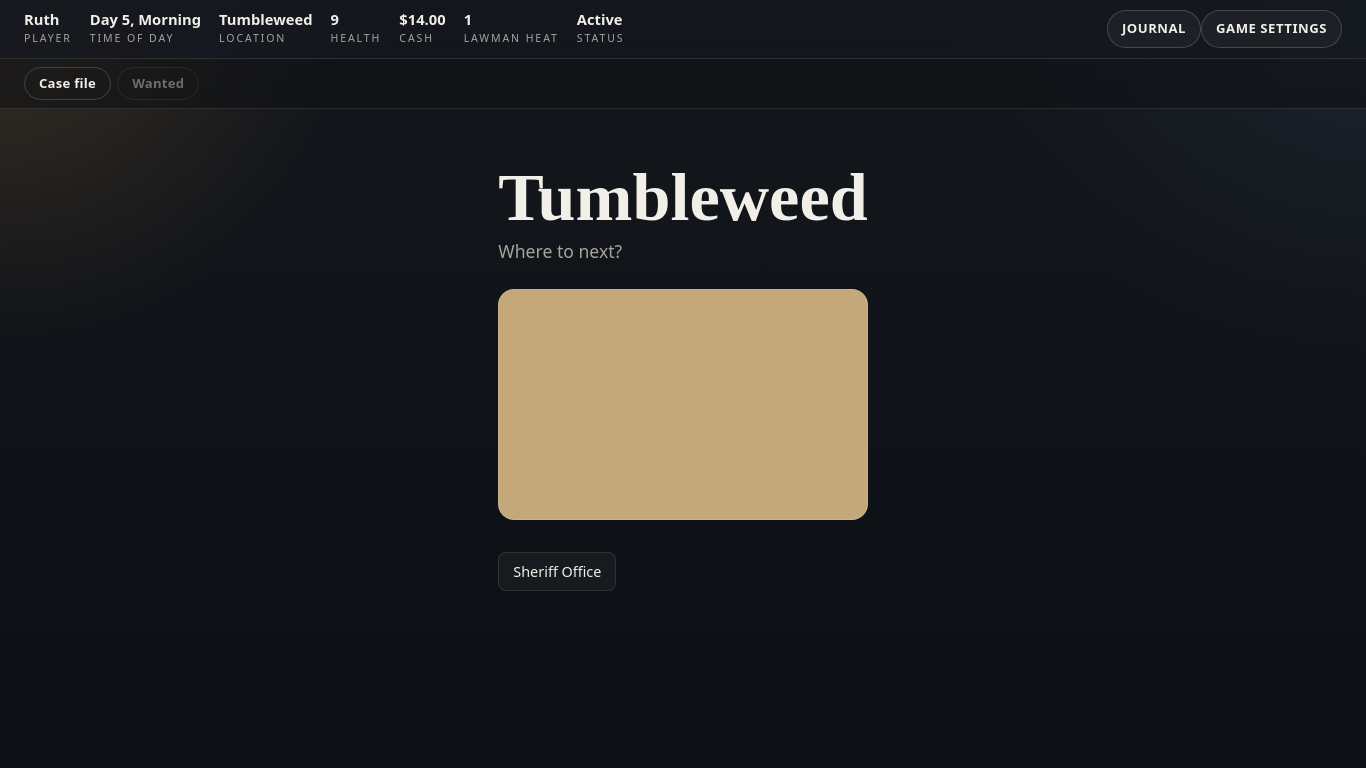
Scenario: Start Over confirmation › clears localStorage and storedGameId on Confirm, returning to the start flow
The width and height of the screenshot is (1366, 768).
Click the button "Game Settings" at (1272, 29), box [1201,10,1342,48]
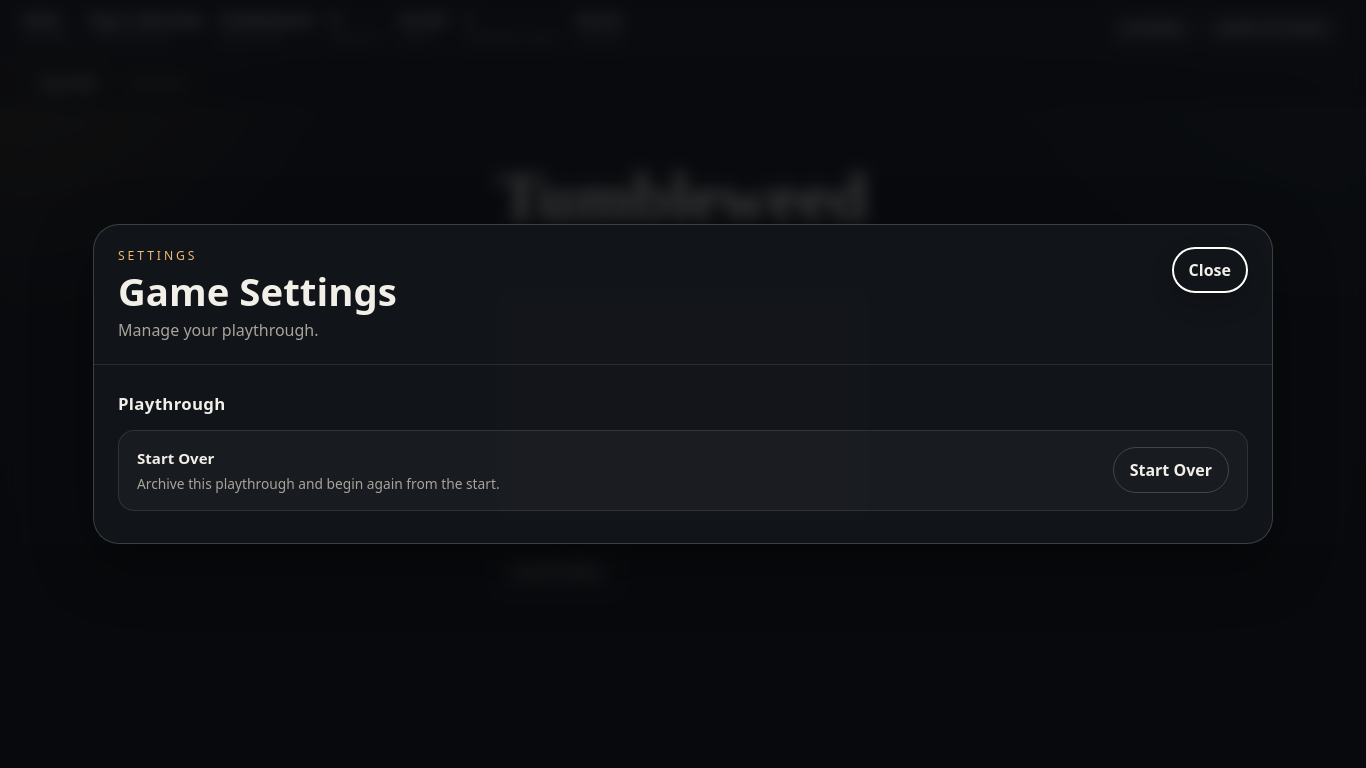
Click the button "Start Over" at (1171, 470), box [1113,447,1229,493]
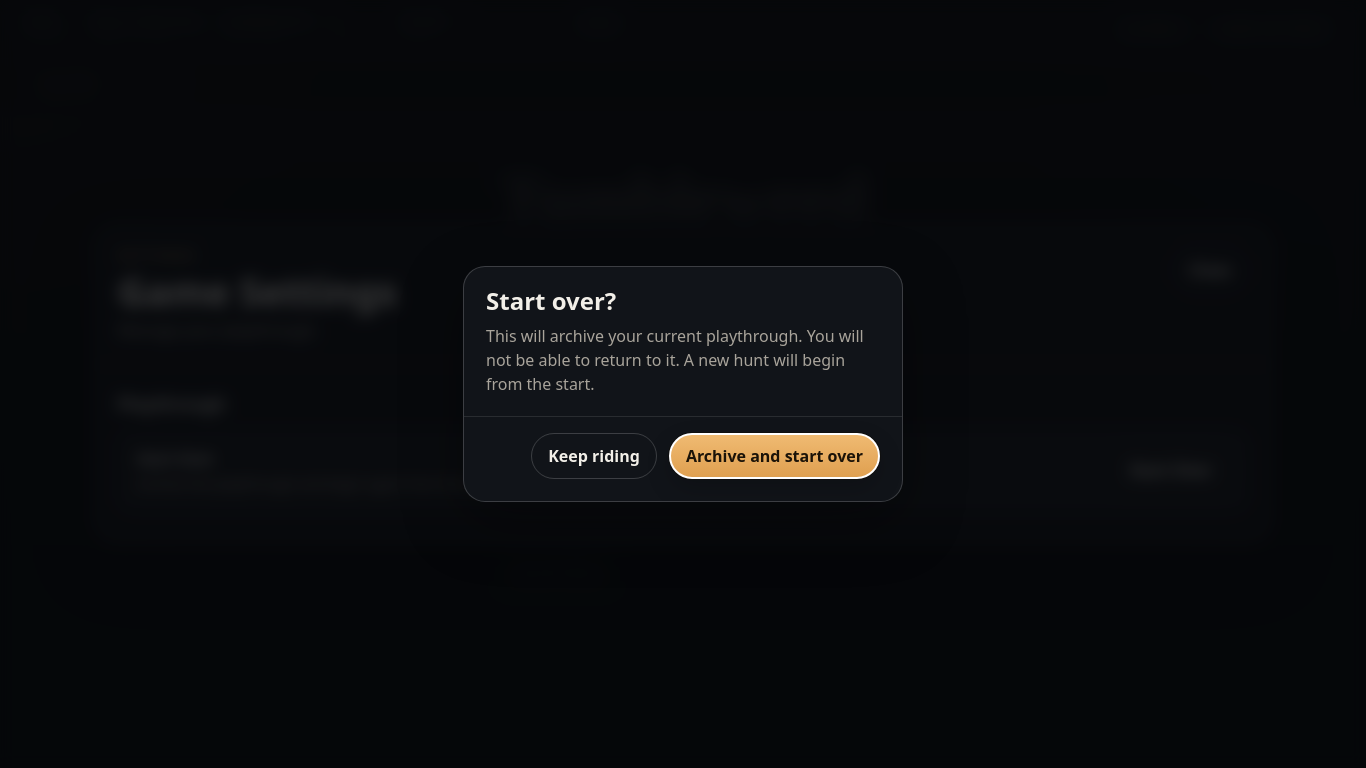
Click the button "Archive and start over" at (774, 456), box [669,433,880,479]
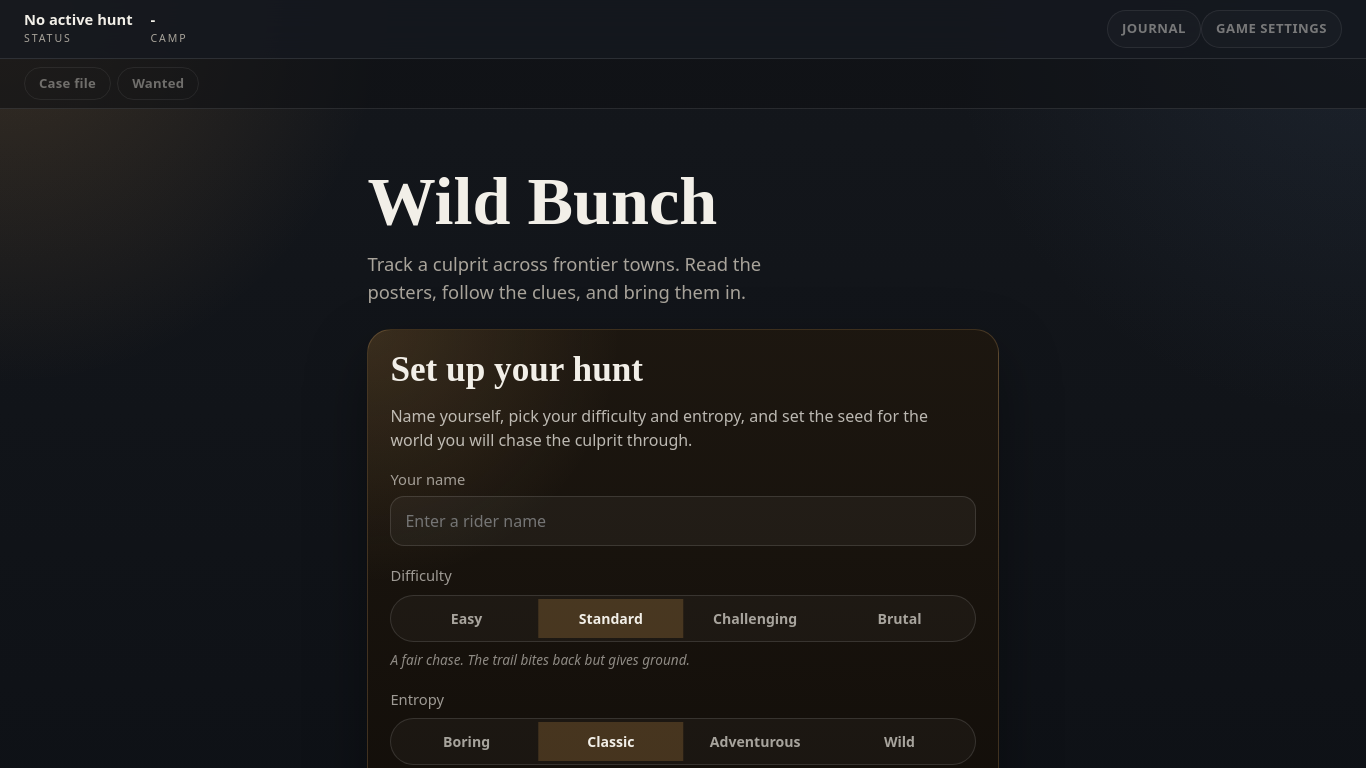
Expected: the button "Game Settings" is disabled, [1201,10,1342,48]
Expected: the heading "Wild Bunch" is shown, [367,163,717,239]
